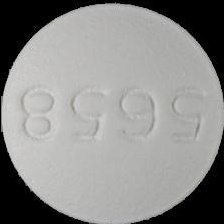67296-0053: (0, 0, 224, 224)
